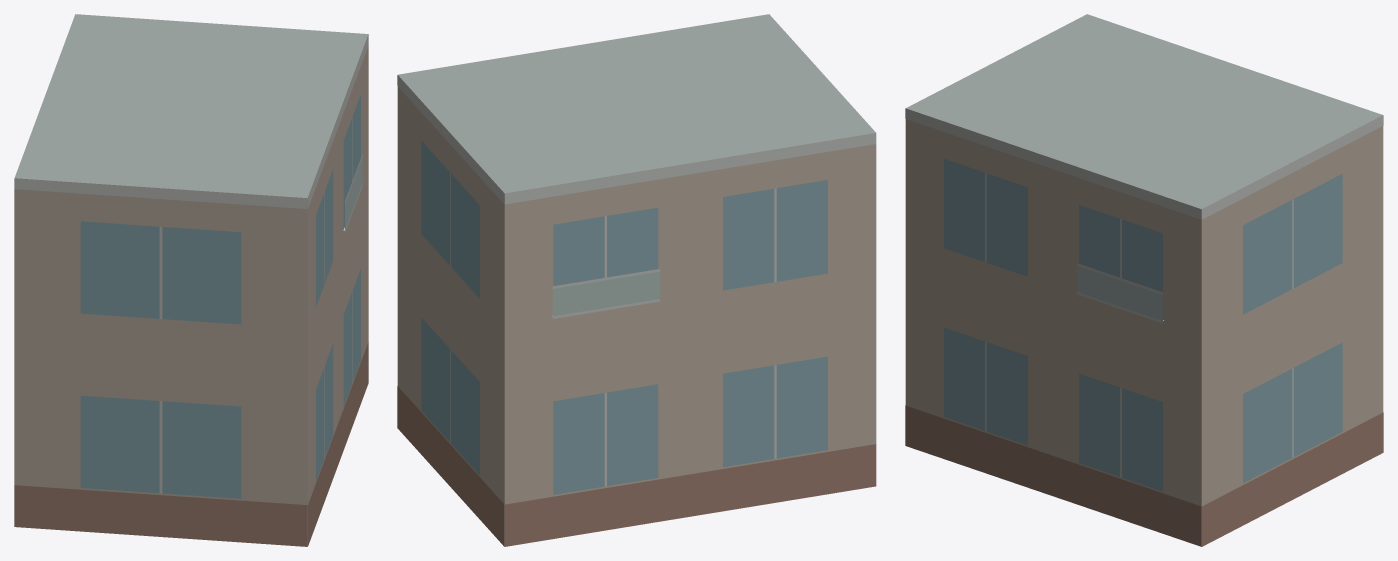
Rendered from survey-upis-32491083.glb.
The picture shows the model from 3 angles, left to right: view 1: azimuth 30°, elevation 25°; view 2: azimuth 150°, elevation 25°; view 3: azimuth 270°, elevation 25°; orthographic projection. The views are drawn at different scales.
Parts seen in each view (by area): view 1: survey-upis-32491083.tmp; view 2: survey-upis-32491083.tmp; view 3: survey-upis-32491083.tmp.
Boxes of the visible parts, bbox=[...] form: survey-upis-32491083.tmp: bbox=[14, 14, 368, 546]; survey-upis-32491083.tmp: bbox=[397, 14, 876, 546]; survey-upis-32491083.tmp: bbox=[905, 14, 1383, 546].
Size of the model in its own units: 9.68 by 7.8 by 10.01.
